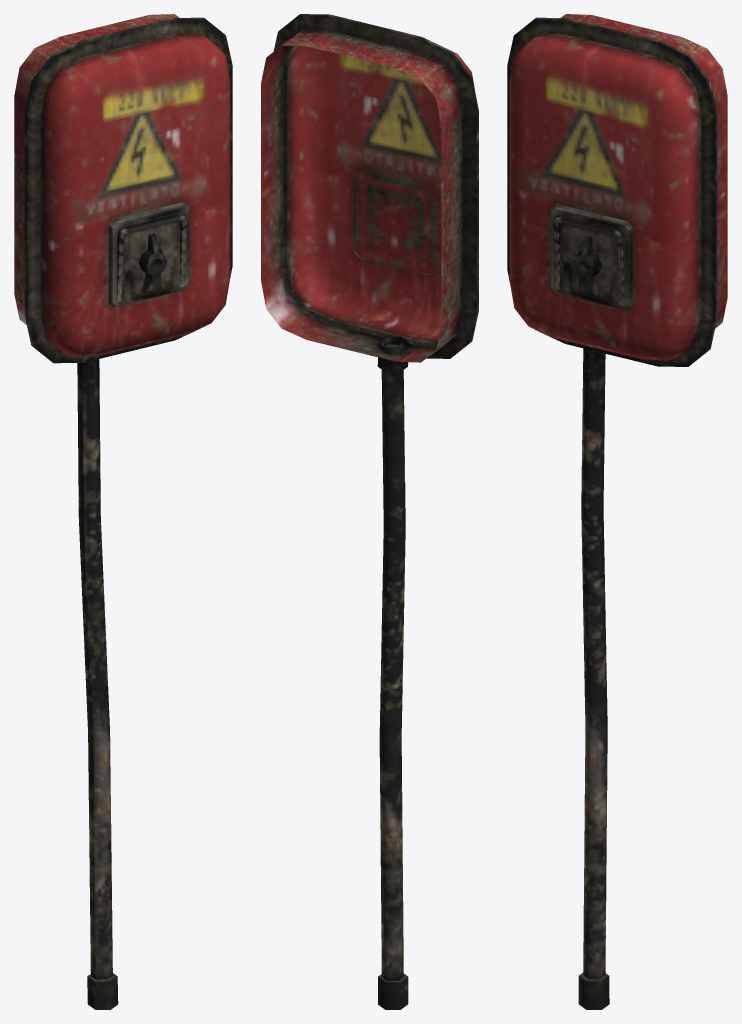
The model's file is DoorMeter_T02.FBX.
3 views of the same model, side by side, from view 1: azimuth 30°, elevation 25°; view 2: azimuth 150°, elevation 25°; view 3: azimuth 330°, elevation 25° (orthographic).
Visible parts, largest first — view 1: DoorMeter_T02; view 2: DoorMeter_T02; view 3: DoorMeter_T02.
Part boxes in pixels (<box>): DoorMeter_T02: <box>14,14,232,1009</box>; DoorMeter_T02: <box>261,14,478,1009</box>; DoorMeter_T02: <box>507,14,727,1009</box>.
Size of the model in its own units: 28.49 by 128 by 12.54.
